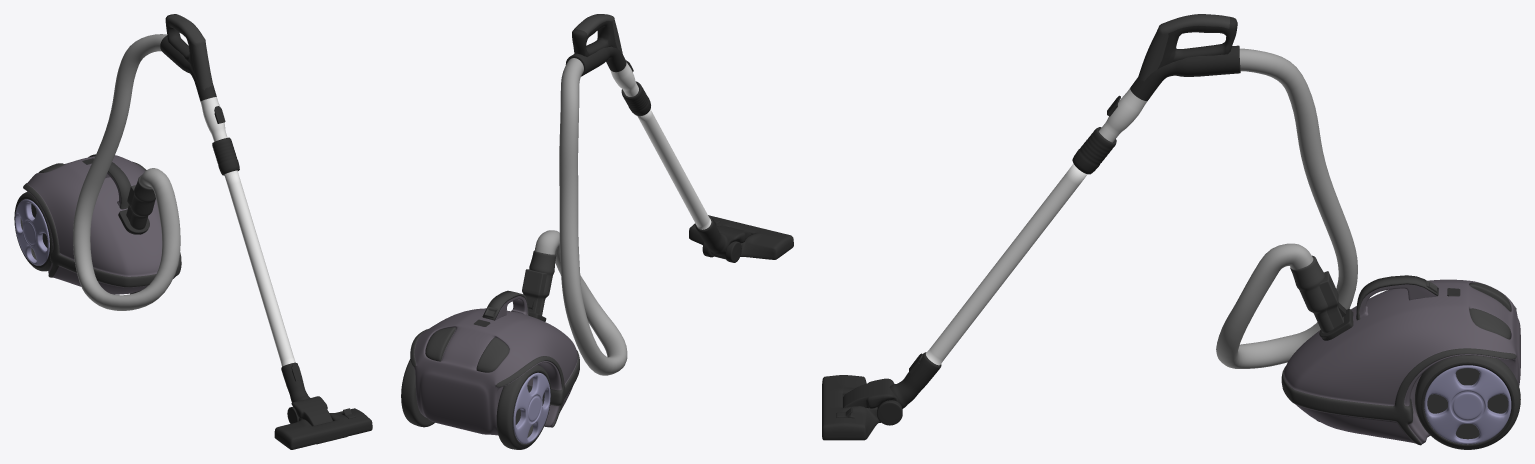
File: VacuumCleaner.fbx
3 views of the same model, side by side, from view 1: azimuth 30°, elevation 25°; view 2: azimuth 150°, elevation 25°; view 3: azimuth 270°, elevation 25° (orthographic). The views are drawn at different scales.
Parts seen in each view (by area): view 1: Cube.013, Cylinder.017, Cylinder.009, Cube.019, Cylinder, Cube.002, Cylinder.008, Plane.010; view 2: Cube.013, Cylinder.017, Cylinder.009, Cylinder, Cube.019, Cube.002, Cube.009, Cylinder.008, Plane.010, Cylinder.018; view 3: Cube.013, Cylinder.017, Cylinder.009, Cylinder, Cube.019, Cube.002, Cylinder.008, Plane.010, Cube.009.
Boxes of the visible parts, x1=… form: Cube.013: x1=23, y1=154, x2=181, y2=294; Cylinder.017: x1=73, y1=34, x2=180, y2=310; Cylinder.009: x1=160, y1=35, x2=309, y2=402; Cube.019: x1=274, y1=396, x2=372, y2=449; Cylinder: x1=14, y1=191, x2=52, y2=271; Cube.002: x1=165, y1=14, x2=212, y2=90; Cylinder.008: x1=130, y1=175, x2=155, y2=229; Plane.010: x1=90, y1=162, x2=130, y2=209; Cube.013: x1=410, y1=308, x2=579, y2=435; Cylinder.017: x1=534, y1=58, x2=627, y2=375; Cylinder.009: x1=565, y1=46, x2=727, y2=255; Cylinder: x1=401, y1=359, x2=551, y2=449; Cube.019: x1=689, y1=215, x2=793, y2=259; Cube.002: x1=572, y1=14, x2=622, y2=56; Cube.009: x1=522, y1=269, x2=546, y2=313; Cylinder.008: x1=529, y1=250, x2=556, y2=315; Plane.010: x1=482, y1=290, x2=528, y2=320; Cylinder.018: x1=702, y1=241, x2=741, y2=262; Cube.013: x1=1281, y1=279, x2=1520, y2=445; Cylinder.017: x1=1216, y1=48, x2=1357, y2=368; Cylinder.009: x1=889, y1=45, x2=1240, y2=408; Cylinder: x1=1415, y1=355, x2=1520, y2=449; Cube.019: x1=822, y1=375, x2=897, y2=440; Cube.002: x1=1138, y1=14, x2=1237, y2=82; Cylinder.008: x1=1290, y1=255, x2=1333, y2=333; Plane.010: x1=1356, y1=275, x2=1438, y2=320; Cube.009: x1=1319, y1=271, x2=1343, y2=328.
Size of the model in its own units: 830 by 2027 by 3195.
